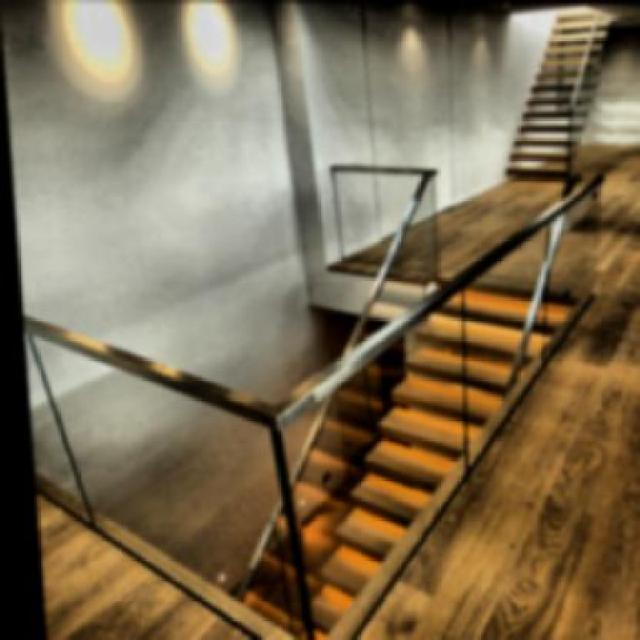stair: (494, 9, 615, 177)
